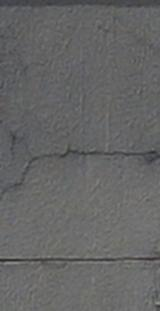fissura: (0, 115, 160, 205)
